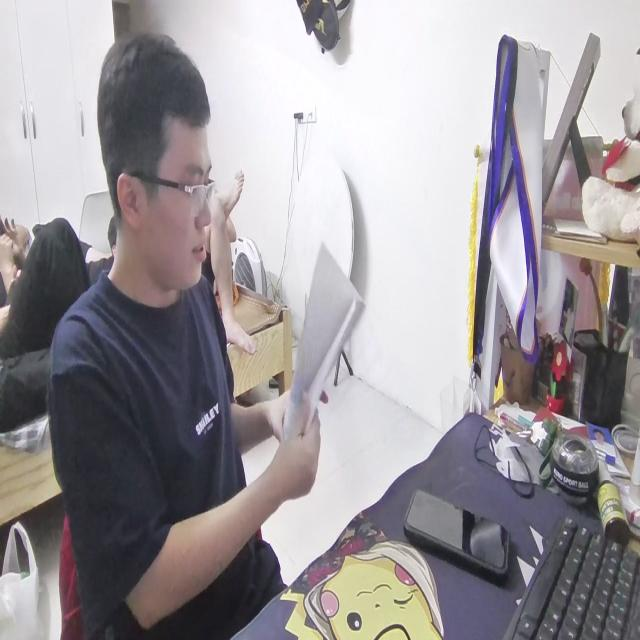book: (277, 237, 359, 459)
phone: (404, 472, 512, 590)
student: (48, 31, 300, 640)
